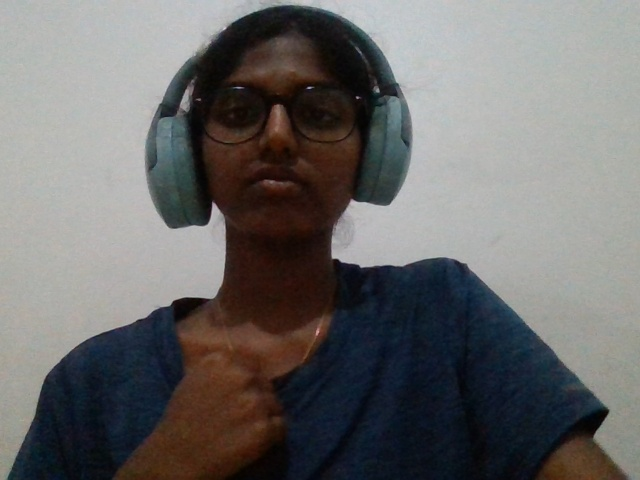Sorry: (99, 342, 362, 470)
